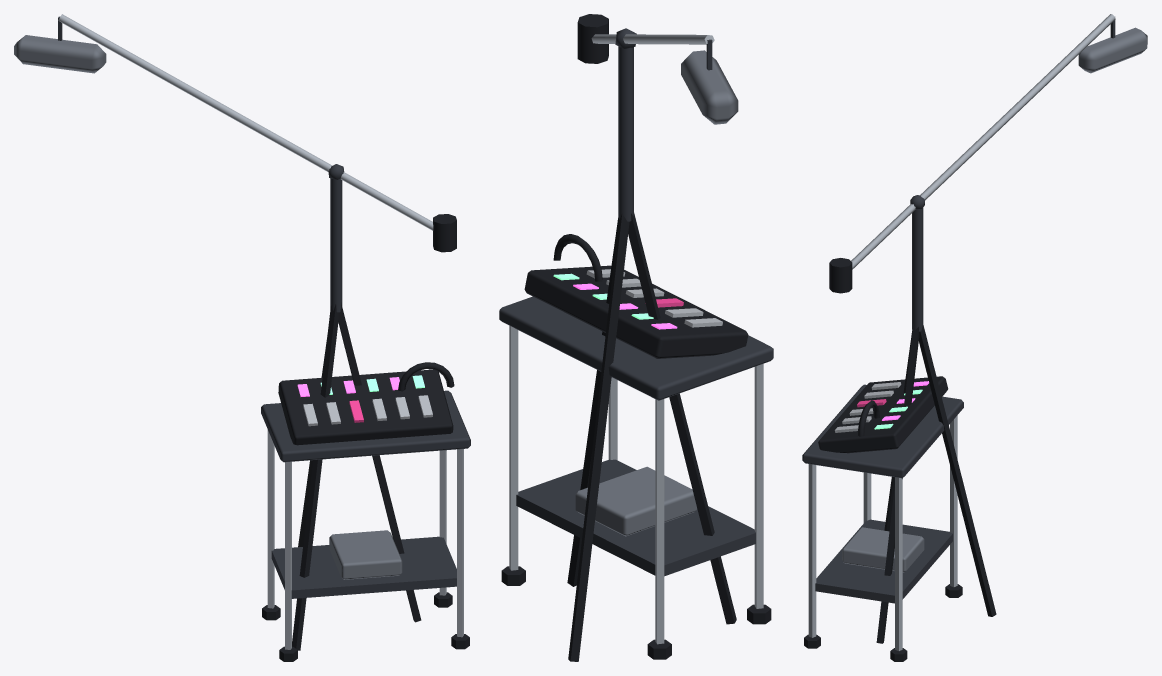
File: station_buffer_ausstattung_3_2.glb
3 renders of one model, left to right at view 1: azimuth 30°, elevation 25°; view 2: azimuth 150°, elevation 25°; view 3: azimuth 270°, elevation 25°, orthographic. The views are drawn at different scales.
Parts seen in each view (by area): view 1: station_buffer_ausstattung_3_2; view 2: station_buffer_ausstattung_3_2; view 3: station_buffer_ausstattung_3_2.
Boxes of the visible parts, x1,y1,x2,y2 form: station_buffer_ausstattung_3_2: [14, 14, 470, 661]; station_buffer_ausstattung_3_2: [499, 14, 773, 661]; station_buffer_ausstattung_3_2: [802, 14, 1147, 661].
Bounding box in the file's own units: 1.14 × 2.02 × 1.2.
